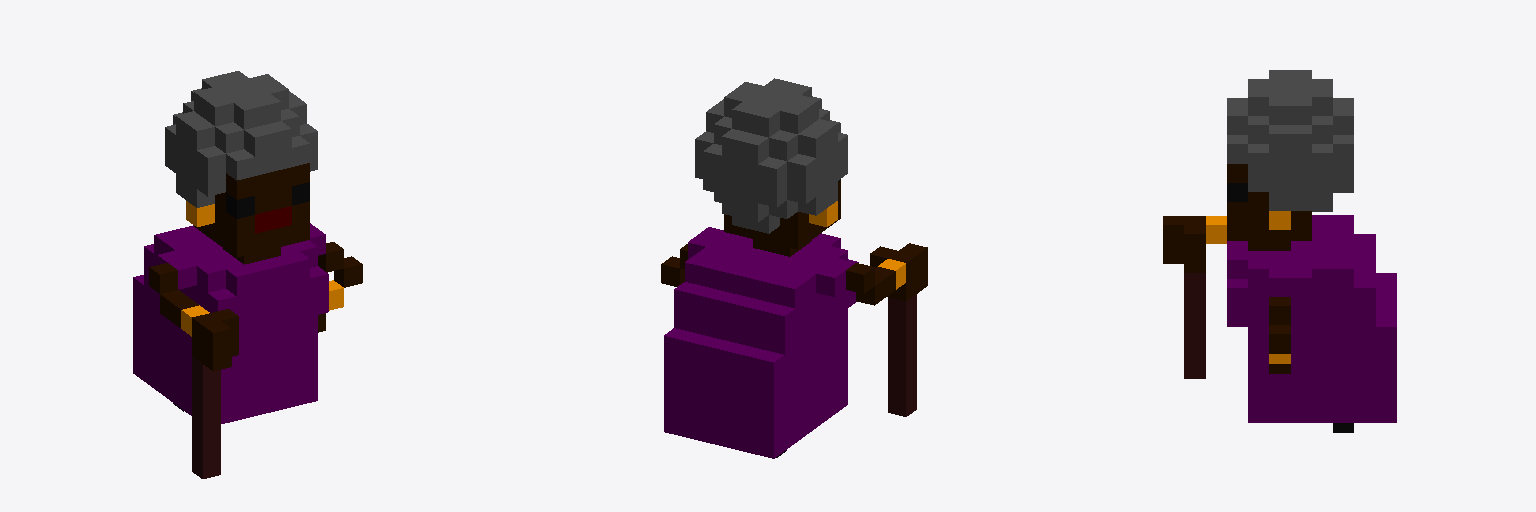
The picture shows the model from 3 angles: view 1: azimuth 30°, elevation 25°; view 2: azimuth 150°, elevation 25°; view 3: azimuth 270°, elevation 25°; orthographic projection.
Parts seen in each view (by area): view 1: Customer_old_lady; view 2: Customer_old_lady; view 3: Customer_old_lady.
Boxes of the visible parts, x1=… form: Customer_old_lady: x1=133, y1=71, x2=362, y2=478; Customer_old_lady: x1=661, y1=78, x2=927, y2=458; Customer_old_lady: x1=1163, y1=70, x2=1396, y2=432.
Bounding box in the file's own units: 11 × 17 × 11.
Materials: 1 (1 with a texture image).